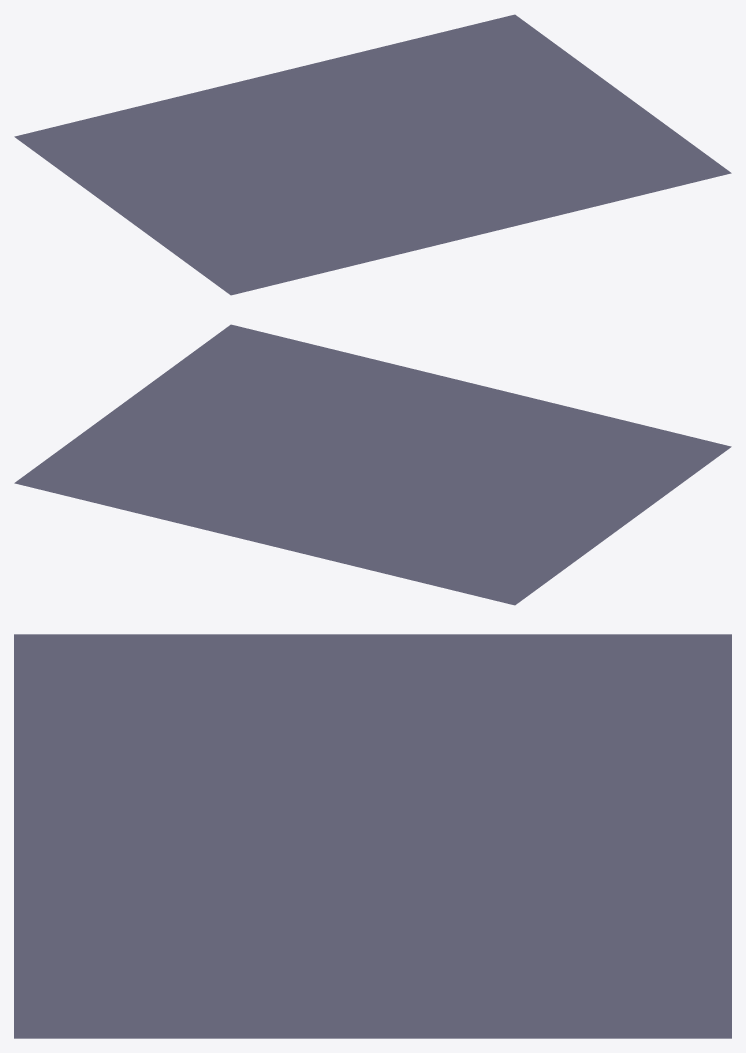
Rendered from m_groundplane.fbx.
The picture shows the model from 3 angles, top to bottom: view 1: azimuth 30°, elevation 25°; view 2: azimuth 150°, elevation 25°; view 3: azimuth 270°, elevation 25°; orthographic projection. The views are drawn at different scales.
Parts seen in each view (by area): view 1: GroundPlane; view 2: GroundPlane; view 3: GroundPlane.
Part boxes in pixels (x1,y1,x2,y2): GroundPlane: (14, 14, 731, 295); GroundPlane: (14, 324, 731, 605); GroundPlane: (14, 634, 731, 1038).
Size of the model in its own units: 200 by 2.22e-16 by 150.
